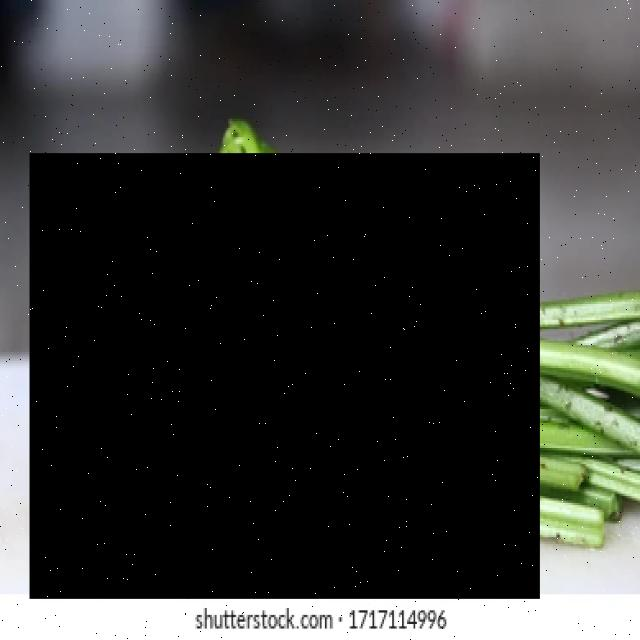Fiddlehead_Ferns: (31, 154, 542, 598)
